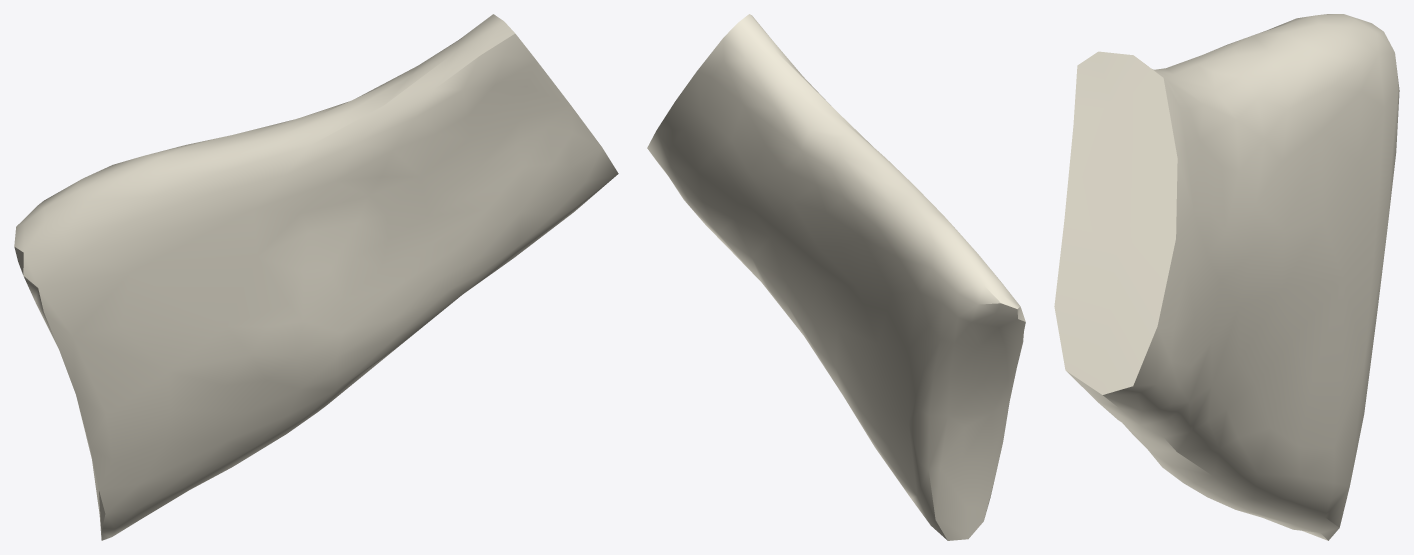
The model's file is fma323748-l_mm2014m.glb.
The picture shows the model from 3 angles, left to right: view 1: azimuth 30°, elevation 25°; view 2: azimuth 150°, elevation 25°; view 3: azimuth 270°, elevation 25°; orthographic projection. The views are drawn at different scales.
Visible parts, largest first — view 1: FMA323748-L_MM2014M; view 2: FMA323748-L_MM2014M; view 3: FMA323748-L_MM2014M.
Part boxes in pixels (left/top/right/bottom): FMA323748-L_MM2014M: left=14, top=14, right=618, bottom=540; FMA323748-L_MM2014M: left=647, top=14, right=1025, bottom=540; FMA323748-L_MM2014M: left=1054, top=14, right=1399, bottom=540.
Size of the model in its own units: 0.00912 by 0.00829 by 0.00364.
